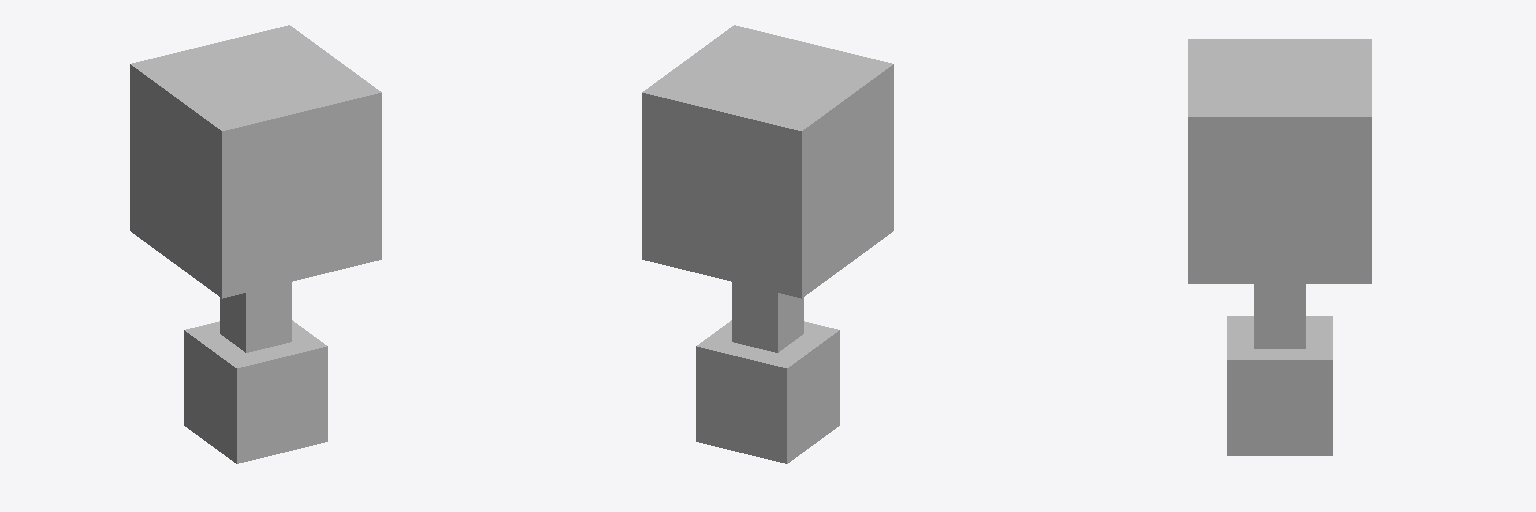
File: tree.obj
3 renders of one model, left to right at view 1: azimuth 30°, elevation 25°; view 2: azimuth 150°, elevation 25°; view 3: azimuth 270°, elevation 25°, orthographic.
Visible parts, largest first — view 1: pCube4; view 2: pCube4; view 3: pCube4.
Boxes of the visible parts, <box> form: pCube4: <box>130,25,381,463</box>; pCube4: <box>642,25,893,463</box>; pCube4: <box>1188,39,1371,455</box>.
Size of the model in its own units: 3.5 by 7.44 by 3.5.